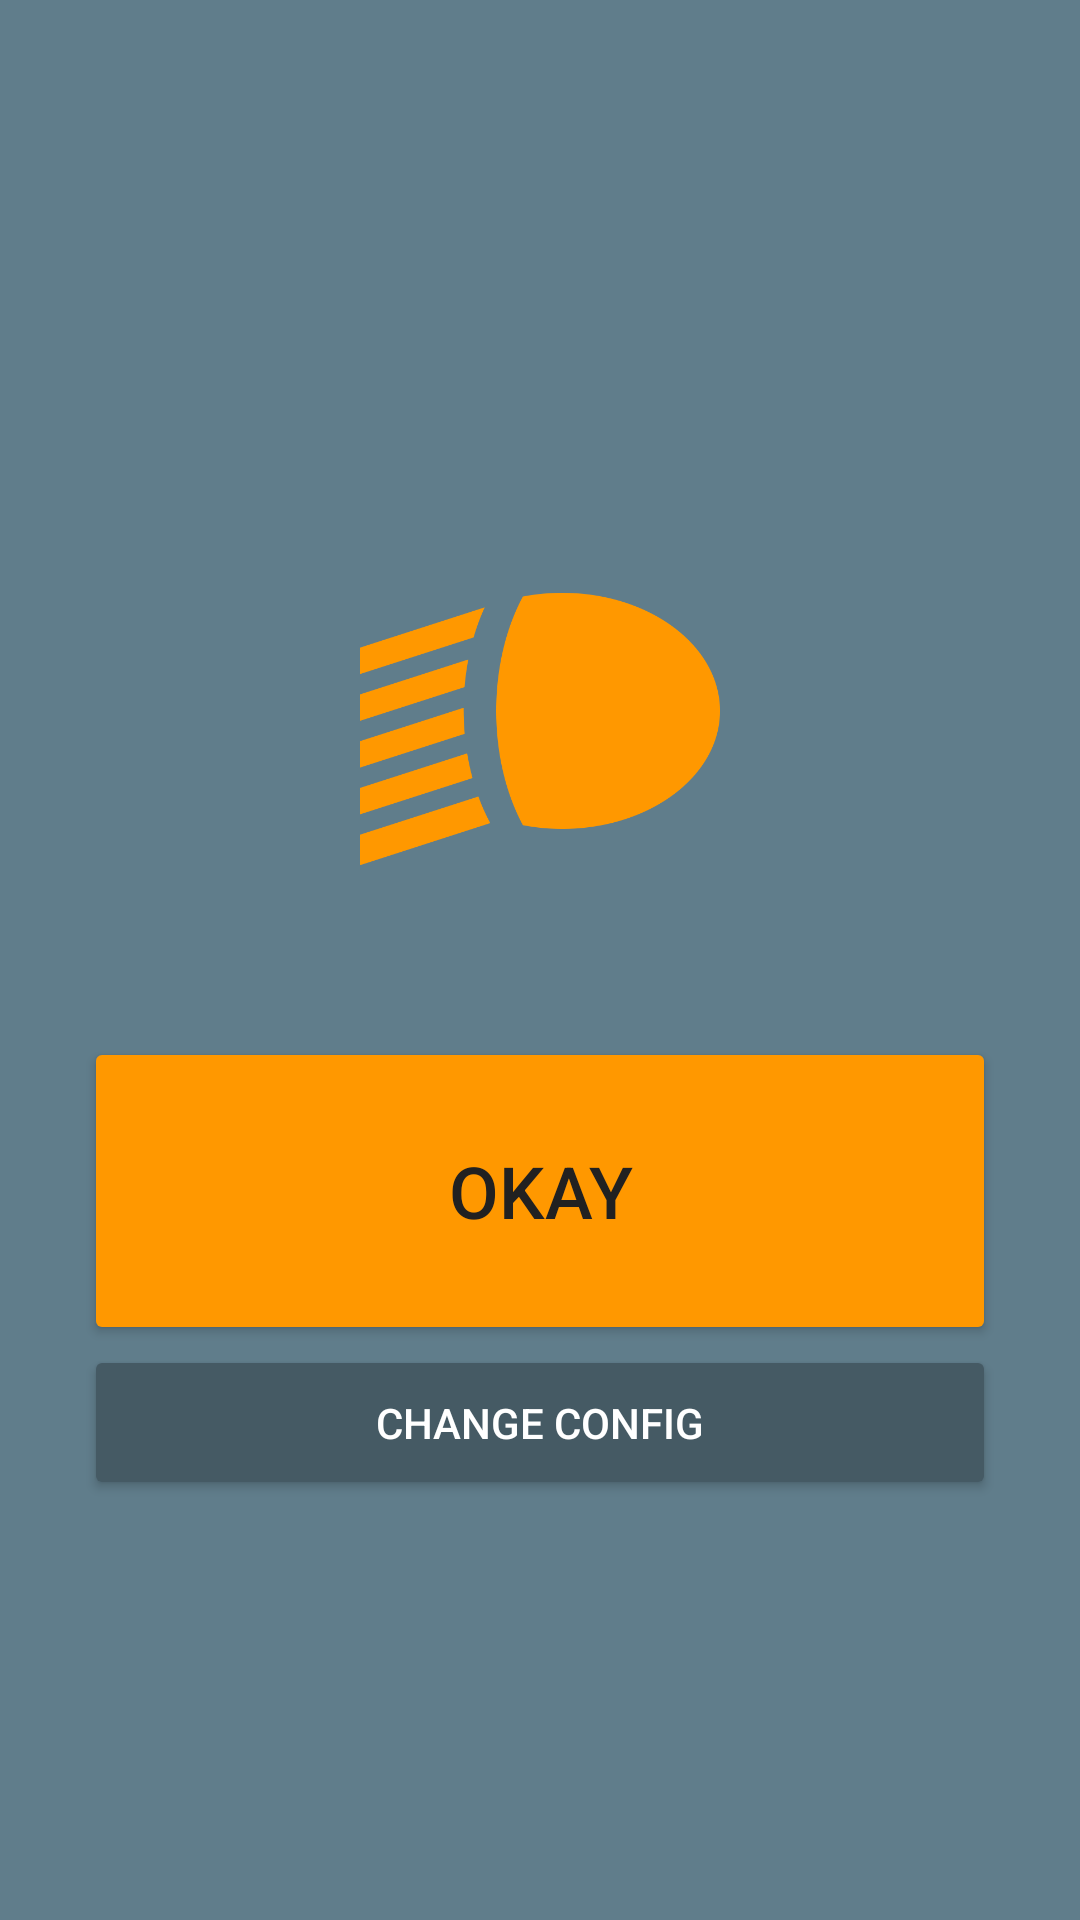

Screen size 1080w x 1920h. Icon name, then its box in pixels as (x1, y1, x2, y2):
beam: (360, 593, 720, 865)
